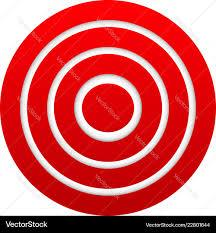target_red: (0, 0, 215, 215)
